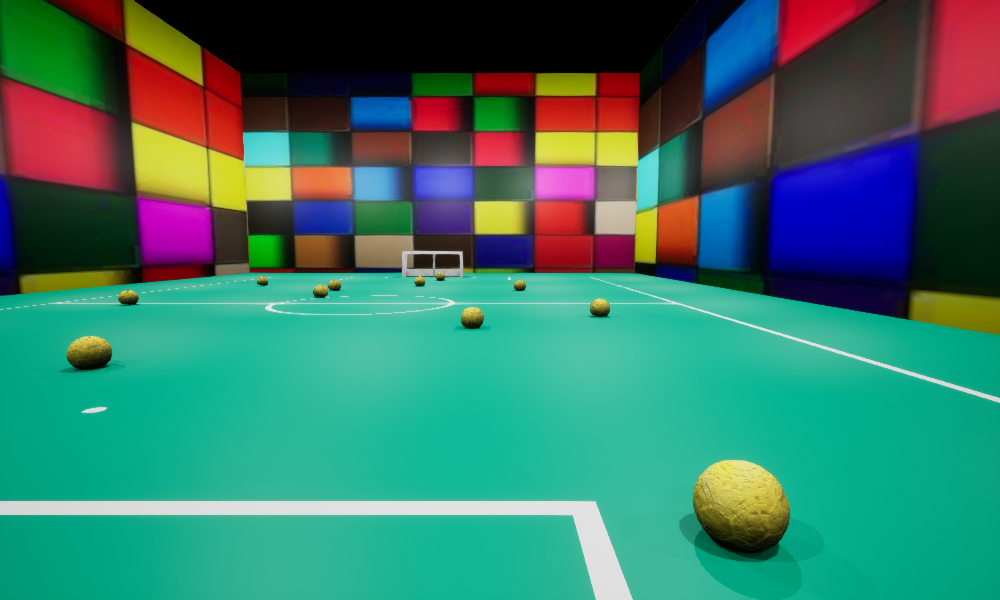b: (693, 460, 789, 551), (66, 336, 111, 368), (461, 307, 483, 327), (590, 298, 609, 316), (118, 290, 138, 304), (313, 284, 327, 297), (514, 280, 525, 290), (328, 280, 340, 289), (414, 276, 424, 285), (257, 276, 267, 285), (436, 272, 444, 279)
g: (402, 251, 462, 276)
